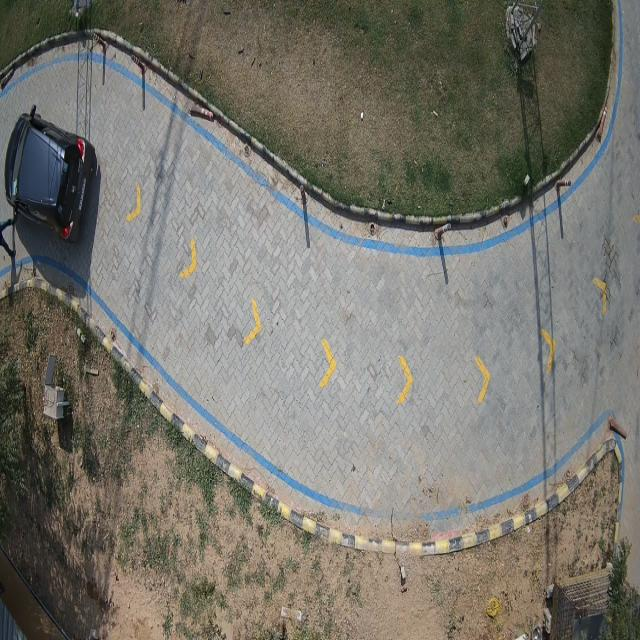car: (5, 107, 98, 241)
